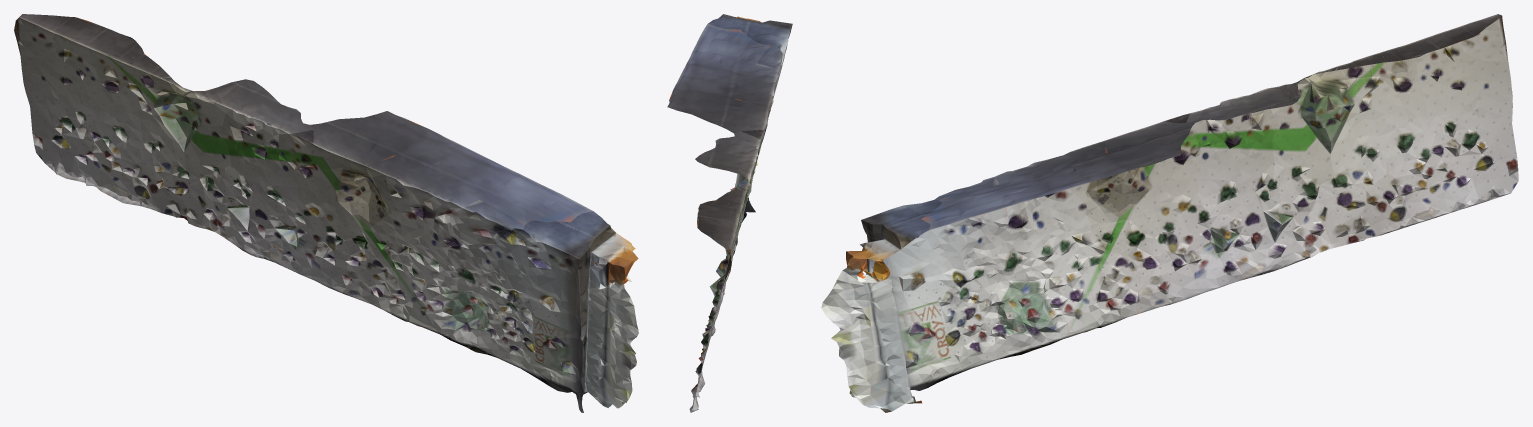
The model's file is thumb.glb.
The picture shows the model from 3 angles, left to right: view 1: azimuth 30°, elevation 25°; view 2: azimuth 150°, elevation 25°; view 3: azimuth 270°, elevation 25°; orthographic projection. The views are drawn at different scales.
Visible parts, largest first — view 1: world; view 2: world; view 3: world.
Boxes of the visible parts, x1,y1,x2,y2 form: world: (14,14,638,412); world: (667,14,792,412); world: (821,14,1518,412).
Size of the model in its own units: 6.56 by 4.9 by 12.09.
1 material, 1 textured.
